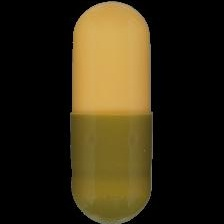69189-2537: (0, 0, 224, 224)
